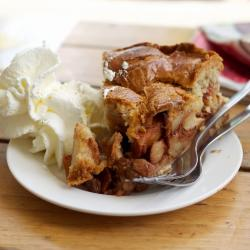apple_pie: (82, 46, 233, 193)
